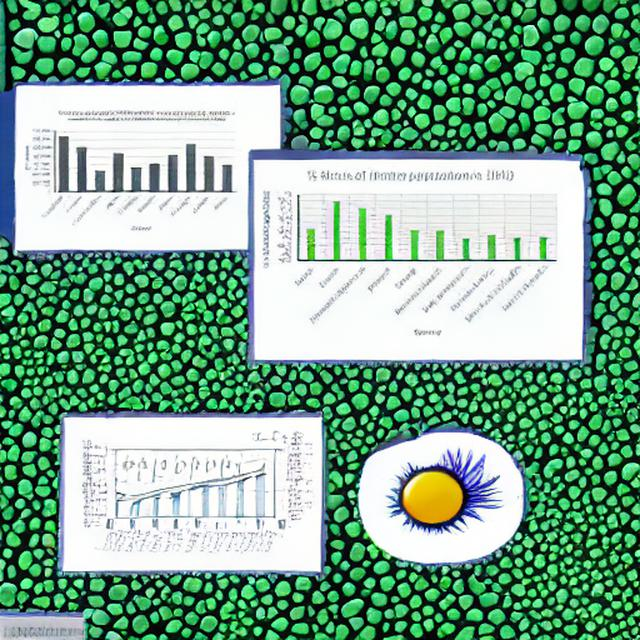Graph: (254, 160, 565, 347), (21, 108, 243, 234)
